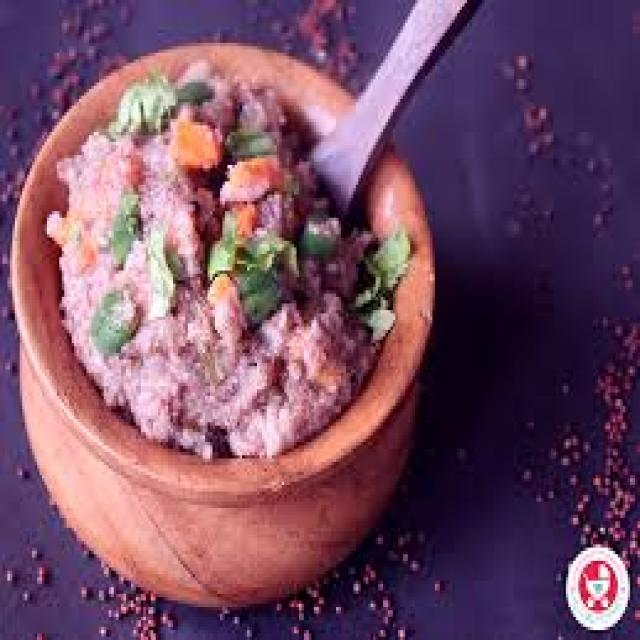UPMA: (47, 69, 413, 452)
